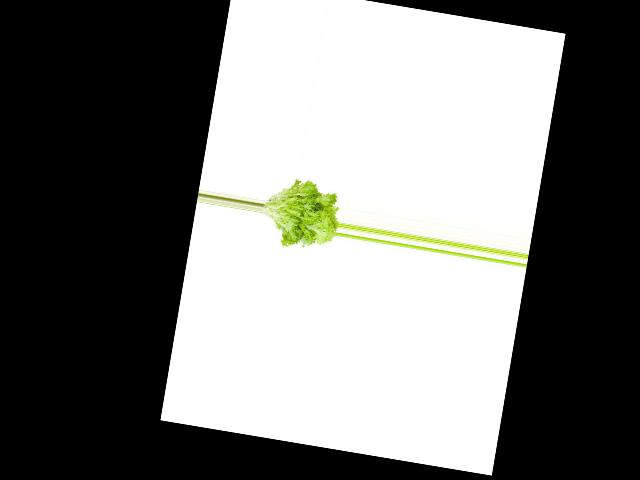lettuce: (255, 170, 344, 254)
